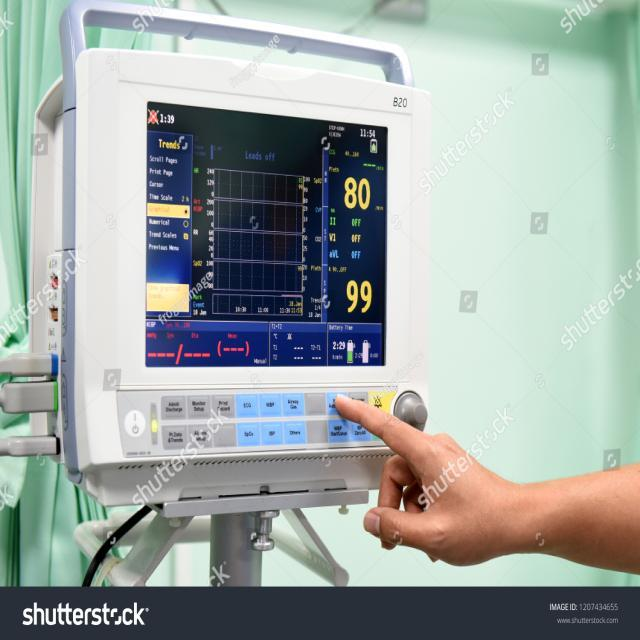Monitor: (2, 0, 410, 576)
